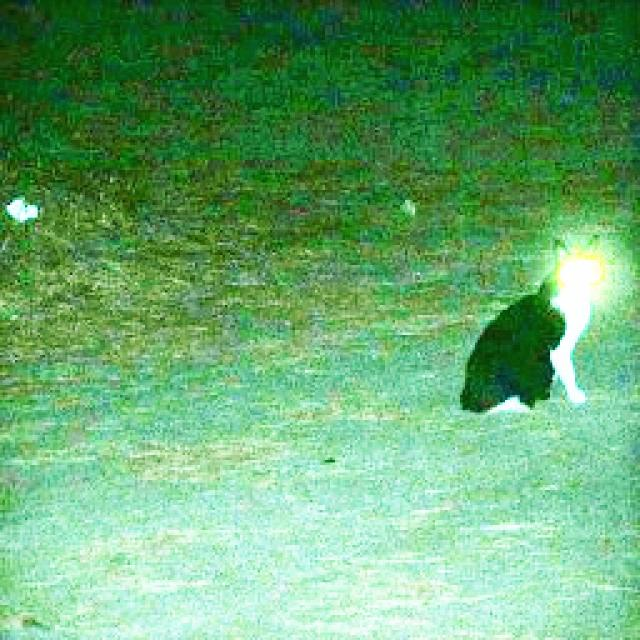cat: (458, 238, 603, 412)
